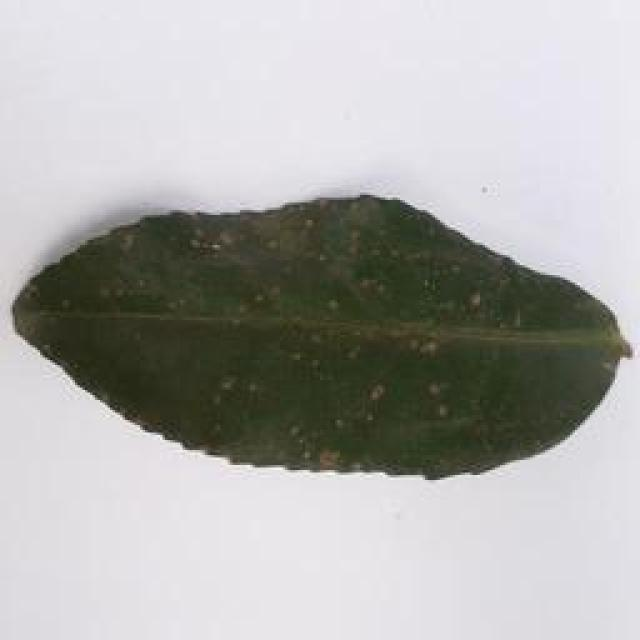Algal Leaf Spot: (11, 189, 626, 499)
